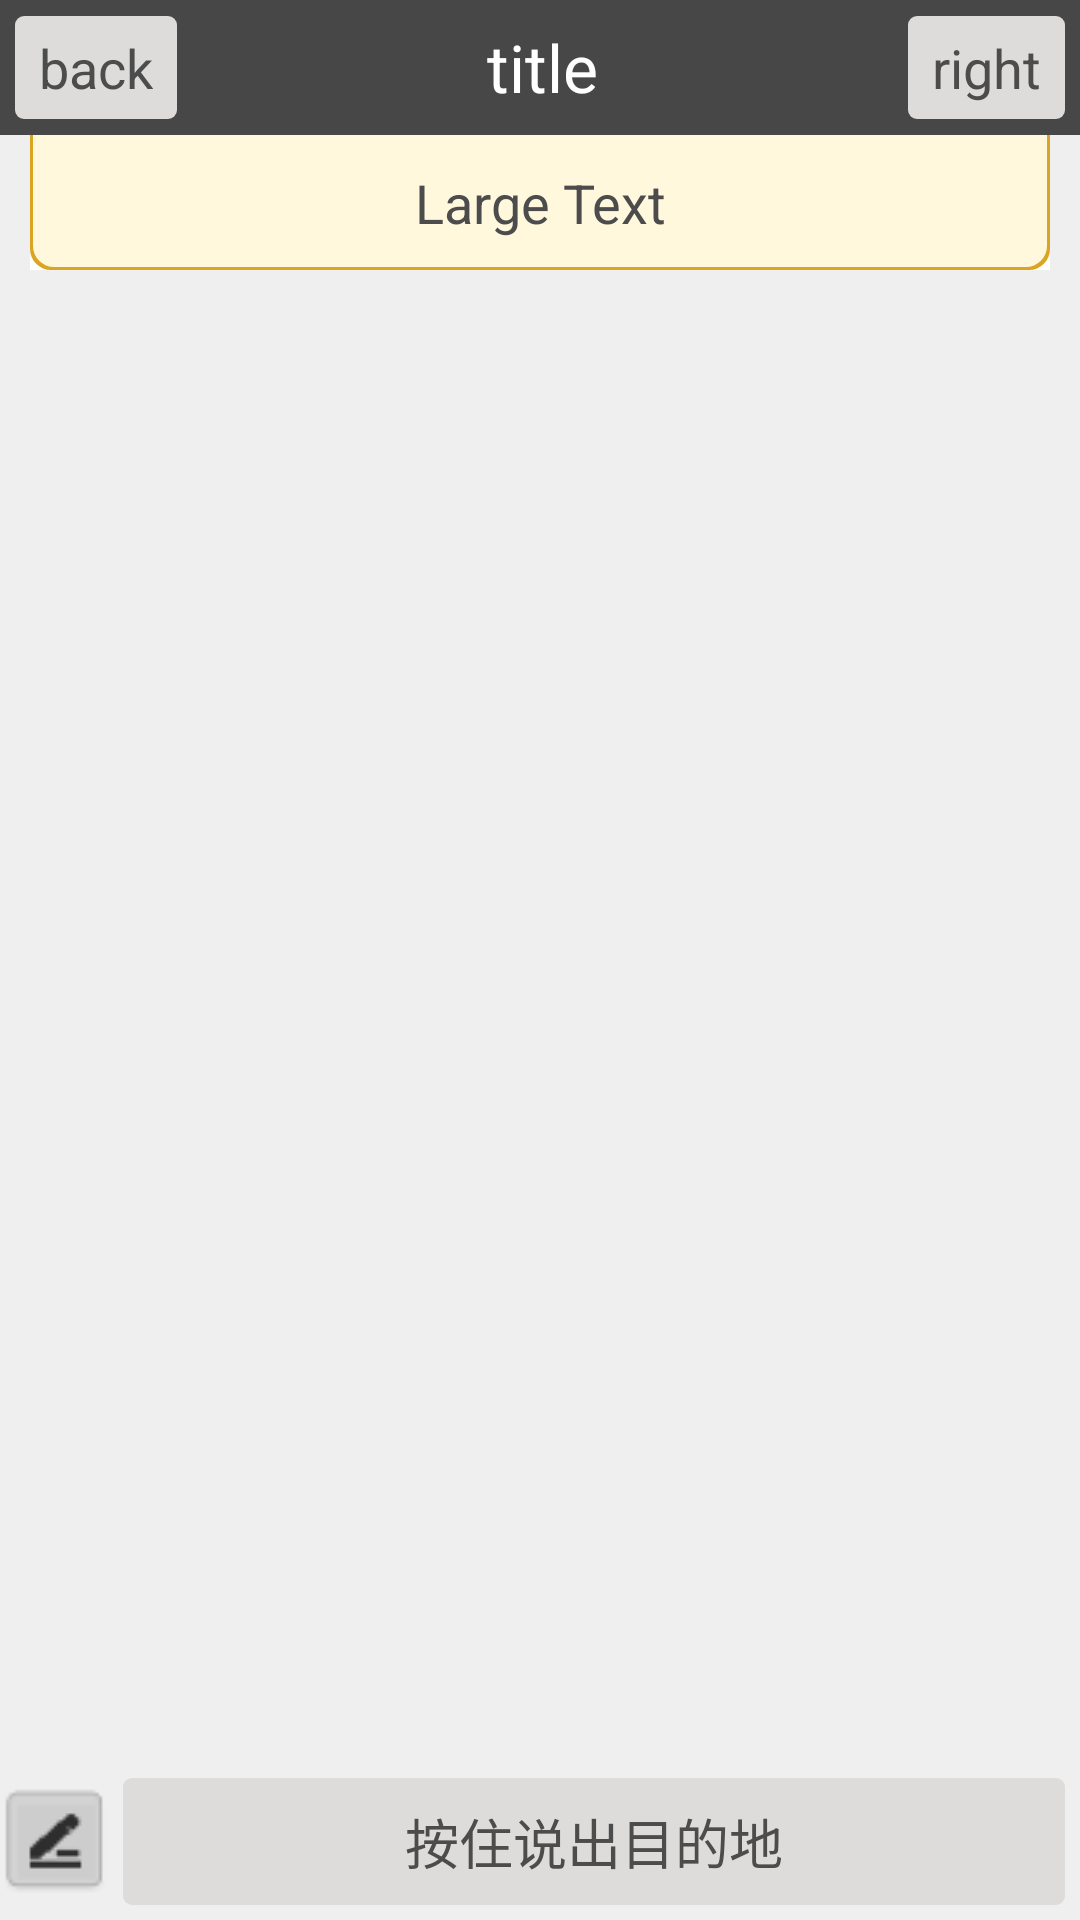

Point at icon controls on the screen. Image size 1080×1920, points as (x,y).
input: (54,1839)
